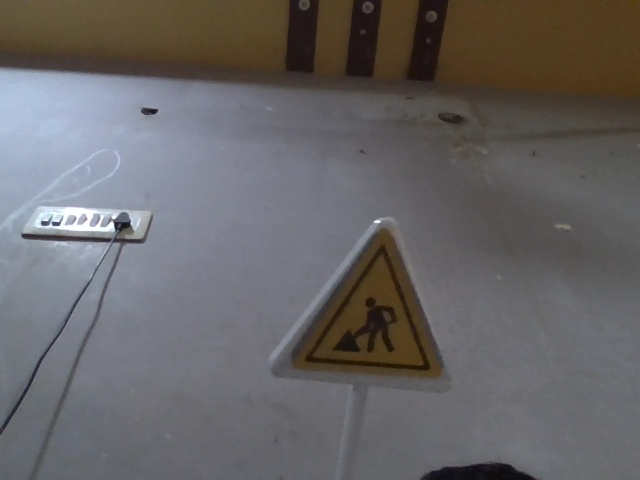workinprogress: (253, 226, 470, 396)
